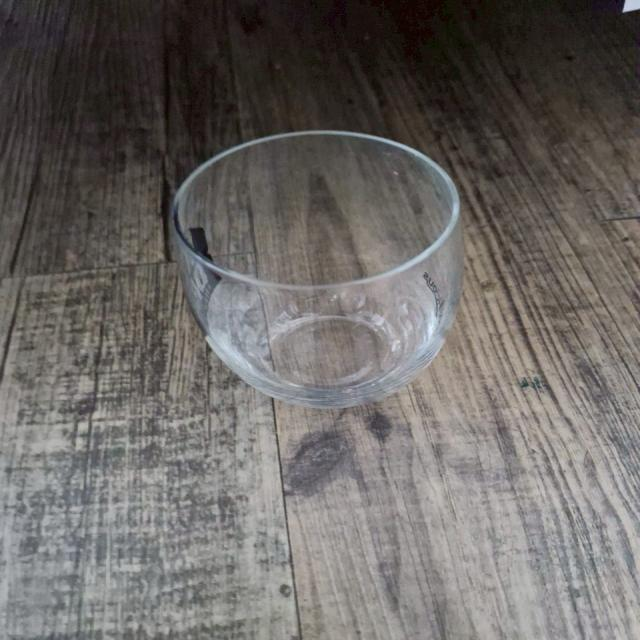plastic cup: (174, 138, 463, 412)
